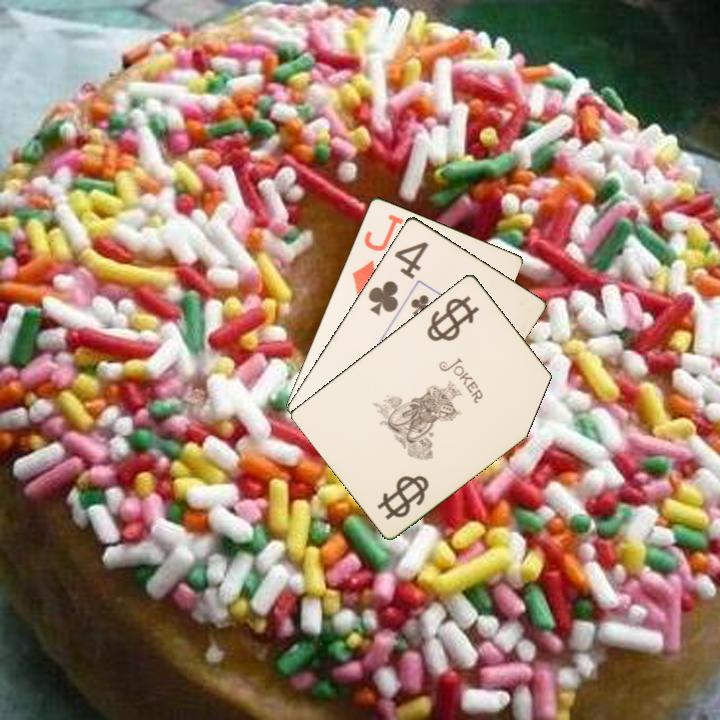4c: (364, 237, 432, 318)
JK: (373, 471, 432, 522), (427, 298, 472, 340)
Jd: (348, 210, 407, 300)
